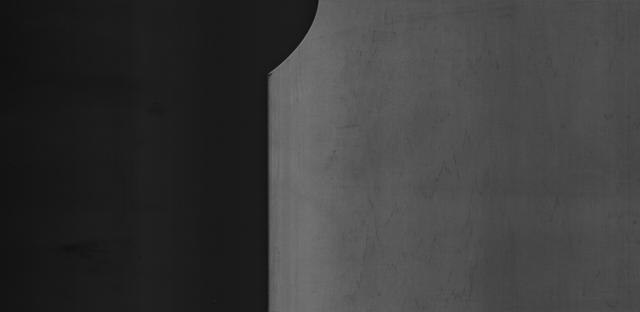crescent_gap: (224, 0, 338, 102)
